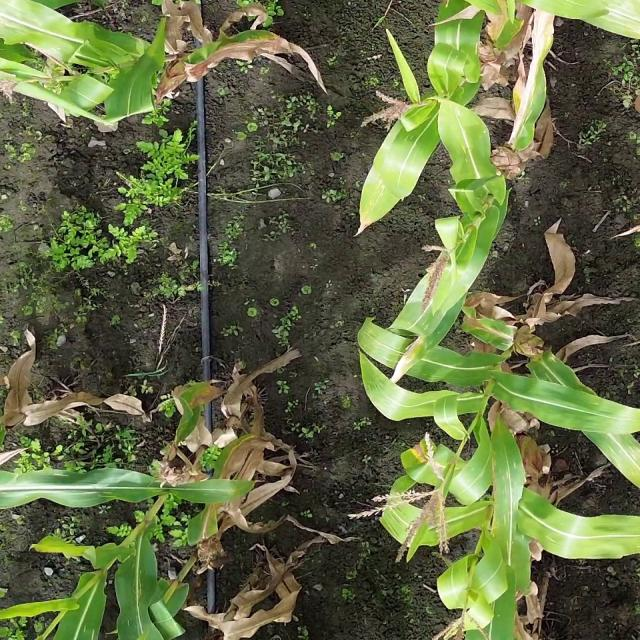gray-leaf-spot: (458, 445, 576, 561), (356, 129, 429, 229), (99, 540, 169, 640)
northern-leaf-blight: (183, 429, 267, 559), (155, 367, 224, 453)
southern-leaf-blight: (400, 295, 480, 389)
